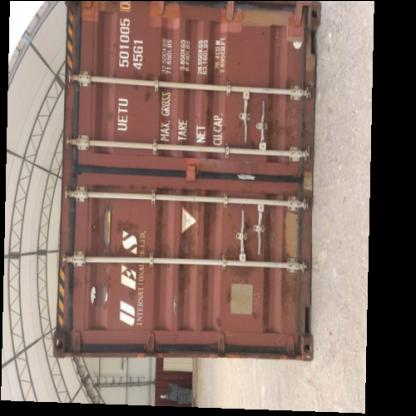Damage: (172, 224, 204, 292), (115, 216, 149, 274), (214, 241, 258, 285), (240, 105, 296, 139), (128, 62, 170, 100)
